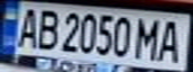0: (112, 13, 136, 60), (78, 10, 96, 55)
2: (57, 9, 81, 53)
5: (93, 11, 115, 56)
A: (154, 16, 187, 63), (9, 4, 42, 50)
B: (33, 7, 60, 51)
M: (133, 15, 163, 61)
